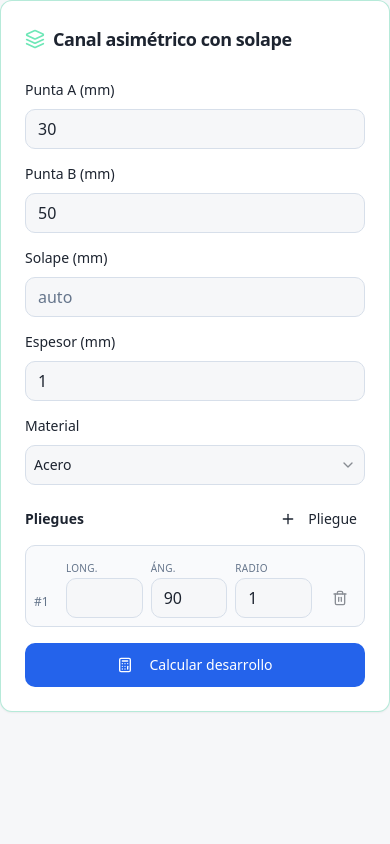
UI Canal › aprobado muestra resultado; luego 0.7 muestra error y borra el resultado
Replace the text in the number field below "Espesor (mm)" with "0.8". click: [195, 381]
box: [25,361,365,401]
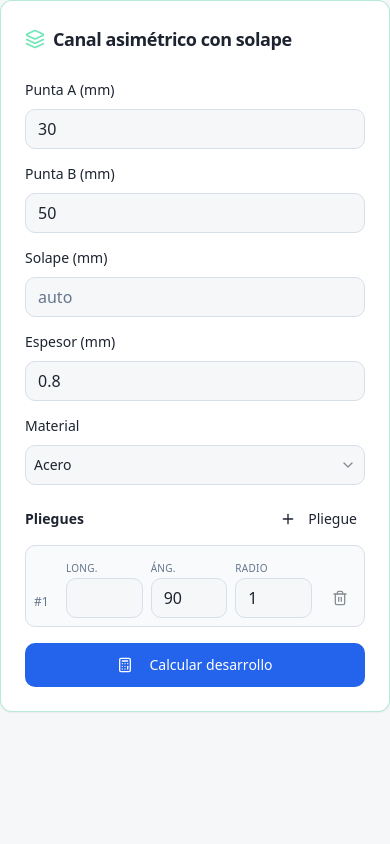
Click the button "Calcular desarrollo". click: [195, 665]
box: [25,643,365,687]
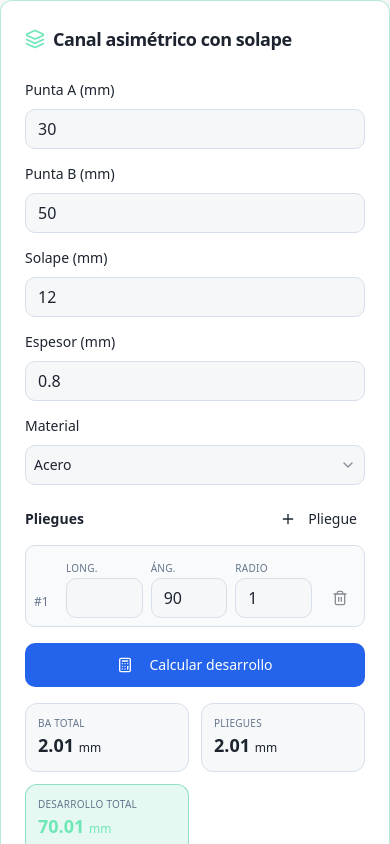
expect the text "Desarrollo total" is shown: met, box [38,797,137,811]
Replace the text in the number field below "Espesor (mm)" with "0.7". click: [195, 381]
box: [25,361,365,401]
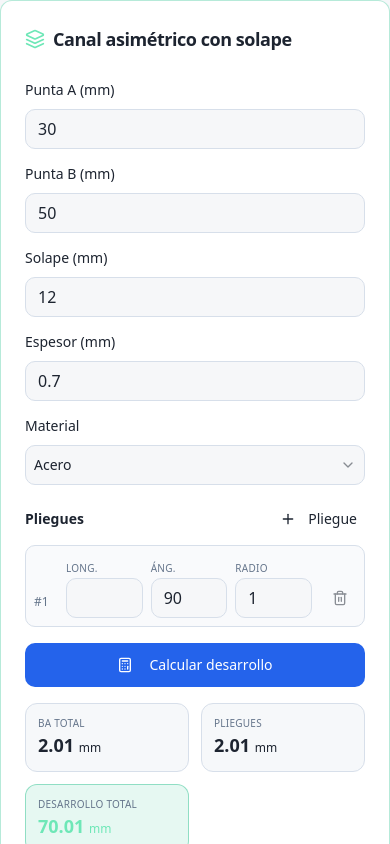
Click the button "Calcular desarrollo". click: [195, 665]
box: [25,643,365,687]
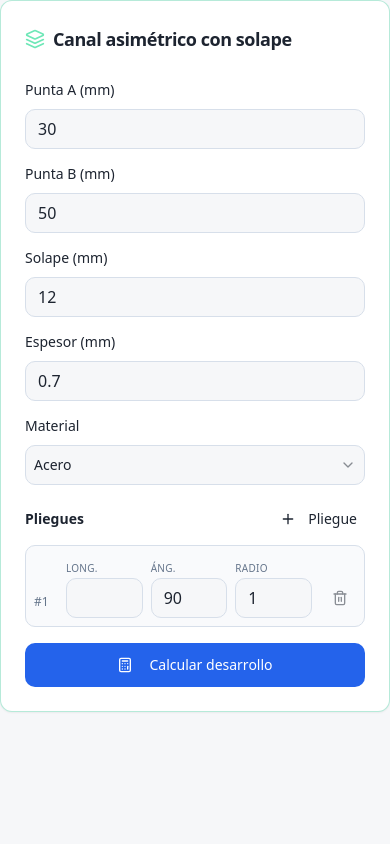
expect the text "Desarrollo total" is gone: met
